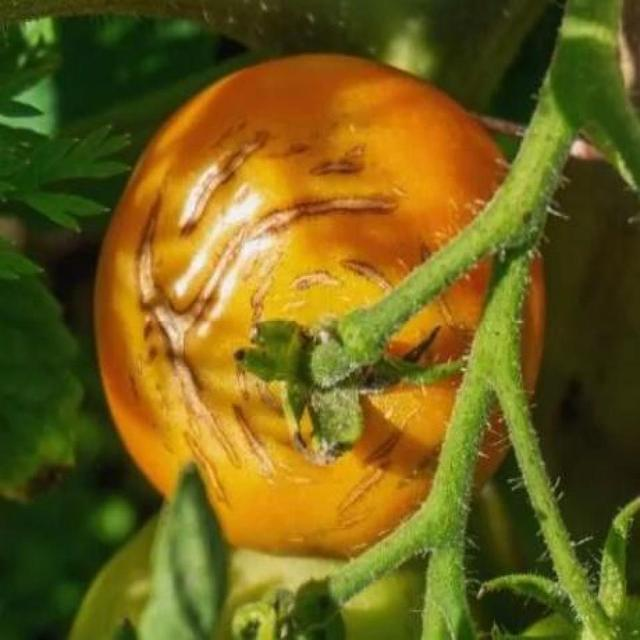Cracking Fruit: (84, 78, 276, 334)
